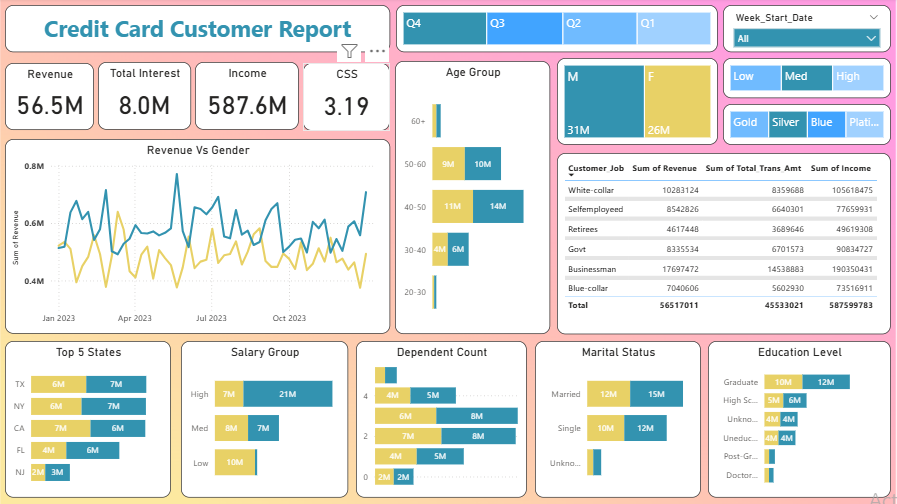

What the dashboard file says about the page in this screenshot:
{"tool":"powerbi","page":{"name":"CC Customer","canvas":[1280,720],"ordinal":2},"visuals":[{"type":"textbox","box":[12.8,9.9,545.7,66.6],"z":0},{"type":"barChart","title":"Top 5 States","fields":{"Category":["customer.state_cd"],"Y":["Sum(credit_card.Revenue)"],"Series":["customer.Gender"]},"box":[13.4,485.5,235.2,221.7],"z":1000},{"type":"tableEx","fields":{"Values":["customer.Customer_Job","Sum(credit_card.Revenue)","Sum(credit_card.Total_Trans_Amt)","Sum(customer.Income)"]},"box":[795.1,219.7,473.4,256.5],"z":2000},{"type":"slicer","fields":{"Values":["credit_card.Week_Start_Date"]},"box":[1030.7,9.9,238.1,66.6],"z":3000},{"type":"treemap","fields":{"Group":["customer.Gender"],"Values":["Sum(credit_card.Revenue)"]},"box":[795.1,85,228.2,123.3],"z":4000},{"type":"treemap","fields":{"Group":["credit_card.Qtr"],"Values":["Avg(credit_card.Client_Num)"]},"box":[566.9,9.9,456.4,66.6],"z":5000},{"type":"treemap","fields":{"Group":["credit_card.Card_Category"],"Values":["Avg(credit_card.Client_Num)"]},"box":[1030.4,150.2,238.1,58.1],"z":6000},{"type":"treemap","fields":{"Group":["customer.IncomeGroup"],"Values":["Avg(credit_card.Client_Num)"]},"box":[1030.4,85,238.1,56.7],"z":7000},{"type":"card","title":"Revenue","fields":{"Values":["Sum(credit_card.Revenue)"]},"box":[13.3,92.1,126.1,95],"z":8000},{"type":"card","title":"Total Interest","fields":{"Values":["Sum(credit_card.Interest_Earned)"]},"box":[144.6,90.7,131.8,96.4],"z":9000},{"type":"card","title":"CSS","fields":{"Values":["Avg(customer.Cust_Satisfaction_Score)"]},"box":[435.1,92.1,123.3,96.4],"z":10000},{"type":"card","title":"Income","fields":{"Values":["Sum(customer.Income)"]},"box":[282,90.7,147.4,96.4],"z":11000},{"type":"lineChart","title":"Revenue Vs Gender","fields":{"Y":["Sum(credit_card.Revenue)"],"Series":["customer.Gender"],"Category":["credit_card.Week_Start_Date.Variation.Date Hierarchy.Year","credit_card.Week_Start_Date.Variation.Date Hierarchy.Quarter","credit_card.Week_Start_Date.Variation.Date Hierarchy.Month","credit_card.Week_Start_Date.Variation.Date Hierarchy.Day"]},"box":[12.8,199.8,545.7,276.4],"z":12000},{"type":"barChart","title":"Age Group","fields":{"Category":["customer.AgeGroup"],"Series":["customer.Gender"],"Y":["Sum(credit_card.Revenue)"]},"box":[565.5,89.3,219.7,386.9],"z":13000},{"type":"barChart","title":"Dependent Count","fields":{"Category":["customer.Dependent_Count"],"Y":["Sum(credit_card.Revenue)"],"Series":["customer.Gender"]},"box":[510.7,485.5,241.9,221.7],"z":14000},{"type":"barChart","title":"Salary Group","fields":{"Category":["customer.IncomeGroup"],"Y":["Sum(credit_card.Revenue)"],"Series":["customer.Gender"]},"box":[262,485.5,236.9,221.7],"z":15000},{"type":"barChart","title":"Marital Status","fields":{"Category":["customer.Marital_Status"],"Y":["Sum(credit_card.Revenue)"],"Series":["customer.Gender"]},"box":[764.3,485.5,235.2,221.7],"z":16000},{"type":"barChart","title":"Education Level","fields":{"Category":["customer.Education_Level"],"Y":["Sum(credit_card.Revenue)"],"Series":["customer.Gender"]},"box":[1009.6,485.5,258.7,221.7],"z":17000}]}

Visuals, with their boxes in screenshot pixels (x1, y1, x2, y2), scaled from the page's 1280x720 canvas onto the 897x504 screenshot:
textbox: bbox=(9, 7, 391, 54)
"Top 5 States" barChart: bbox=(9, 340, 174, 495)
tableEx - customer.Customer_Job x Sum(credit_card.Revenue): bbox=(557, 154, 889, 333)
slicer - credit_card.Week_Start_Date: bbox=(722, 7, 889, 54)
treemap - customer.Gender x Sum(credit_card.Revenue): bbox=(557, 59, 717, 146)
treemap - credit_card.Qtr x Avg(credit_card.Client_Num): bbox=(397, 7, 717, 54)
treemap - credit_card.Card_Category x Avg(credit_card.Client_Num): bbox=(722, 105, 889, 146)
treemap - customer.IncomeGroup x Avg(credit_card.Client_Num): bbox=(722, 59, 889, 99)
"Revenue" card: bbox=(9, 64, 98, 131)
"Total Interest" card: bbox=(101, 63, 194, 131)
"CSS" card: bbox=(305, 64, 391, 132)
"Income" card: bbox=(198, 63, 301, 131)
"Revenue Vs Gender" lineChart: bbox=(9, 140, 391, 333)
"Age Group" barChart: bbox=(396, 63, 550, 333)
"Dependent Count" barChart: bbox=(358, 340, 527, 495)
"Salary Group" barChart: bbox=(184, 340, 350, 495)
"Marital Status" barChart: bbox=(536, 340, 700, 495)
"Education Level" barChart: bbox=(708, 340, 889, 495)
